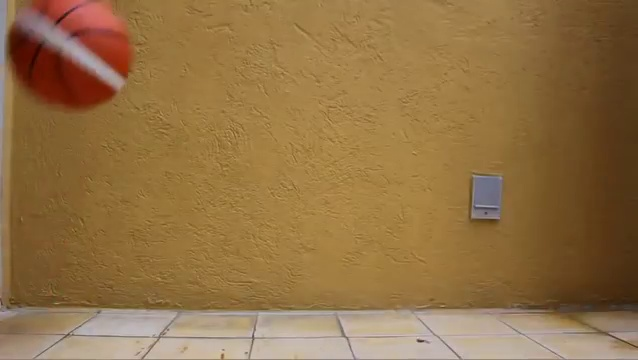ball: (5, 1, 133, 111)
